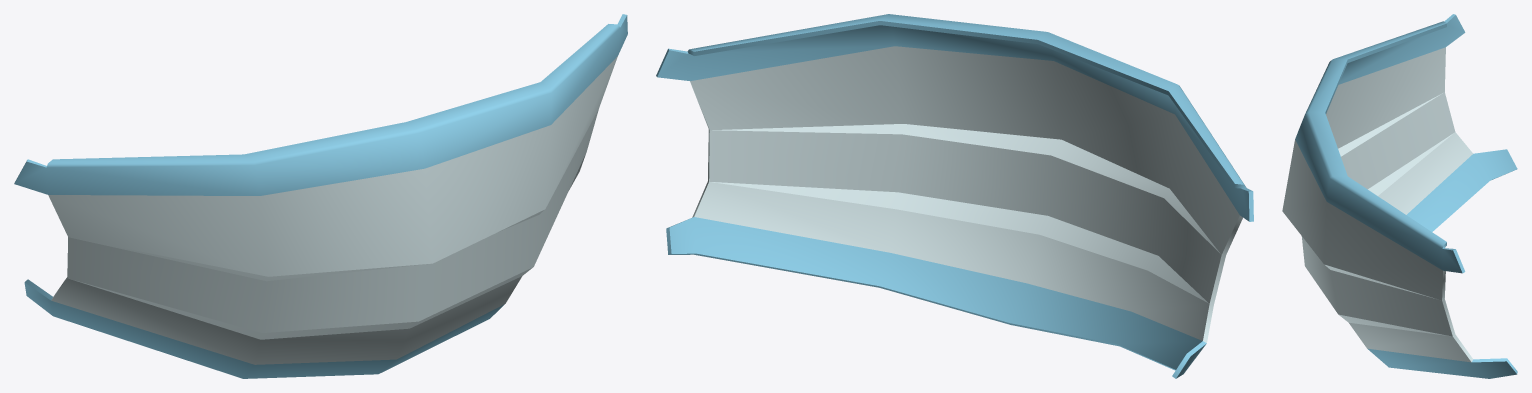
3 views of the same model, side by side, from view 1: azimuth 30°, elevation 25°; view 2: azimuth 150°, elevation 25°; view 3: azimuth 270°, elevation 25° (orthographic). The views are drawn at different scales.
Visible parts, largest first — view 1: medmask; view 2: medmask; view 3: medmask.
Boxes of the visible parts, x1,y1,x2,y2 form: medmask: (14, 14, 627, 378); medmask: (656, 14, 1253, 378); medmask: (1282, 14, 1517, 378).
Bounding box in the file's own units: 0.5392 × 0.2293 × 0.2219.
